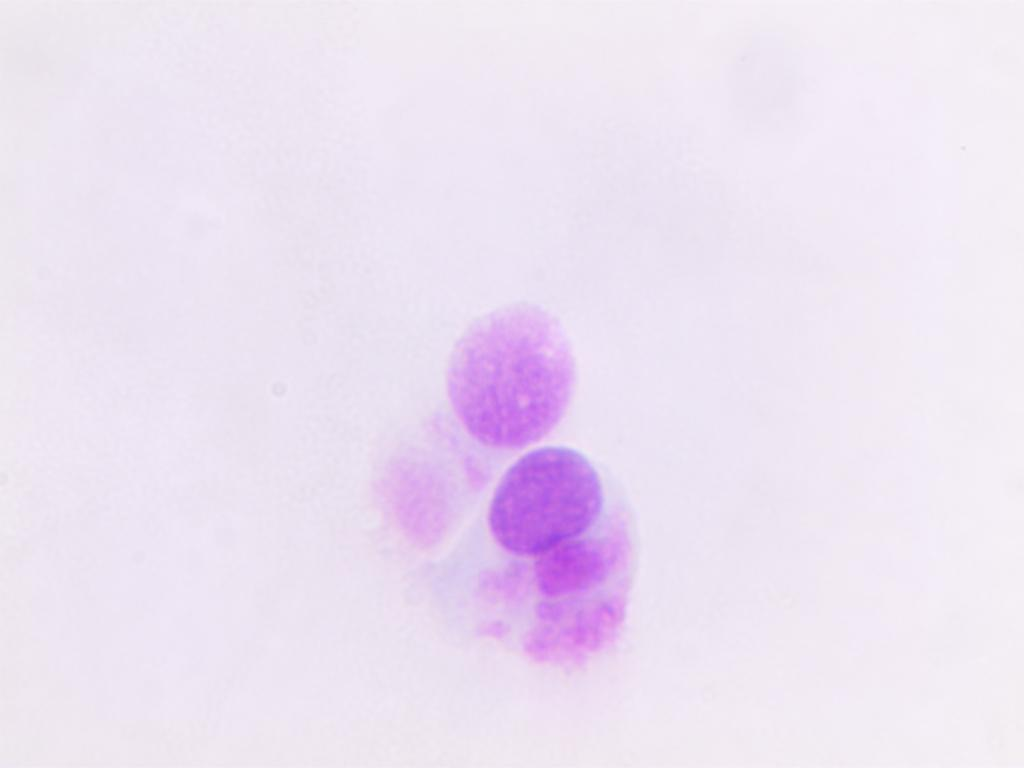ciliated: (481, 444, 670, 690)
epithelial: (396, 277, 598, 445)
